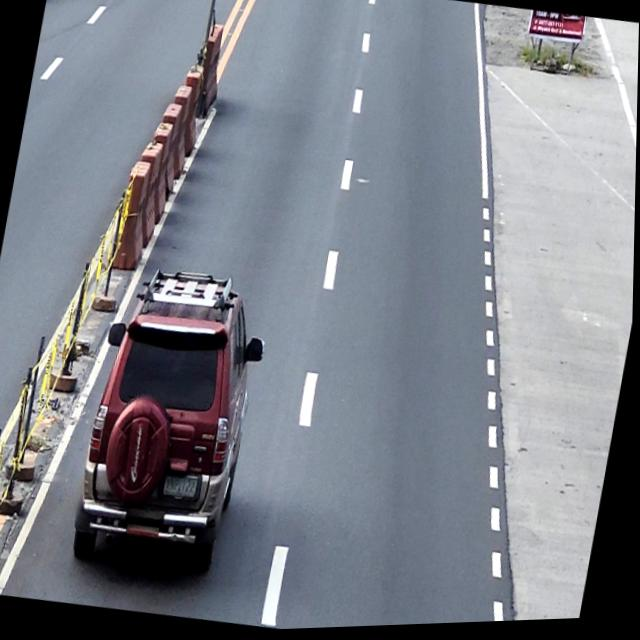Car: (70, 258, 278, 583)
License-Plate: (163, 470, 203, 505)
